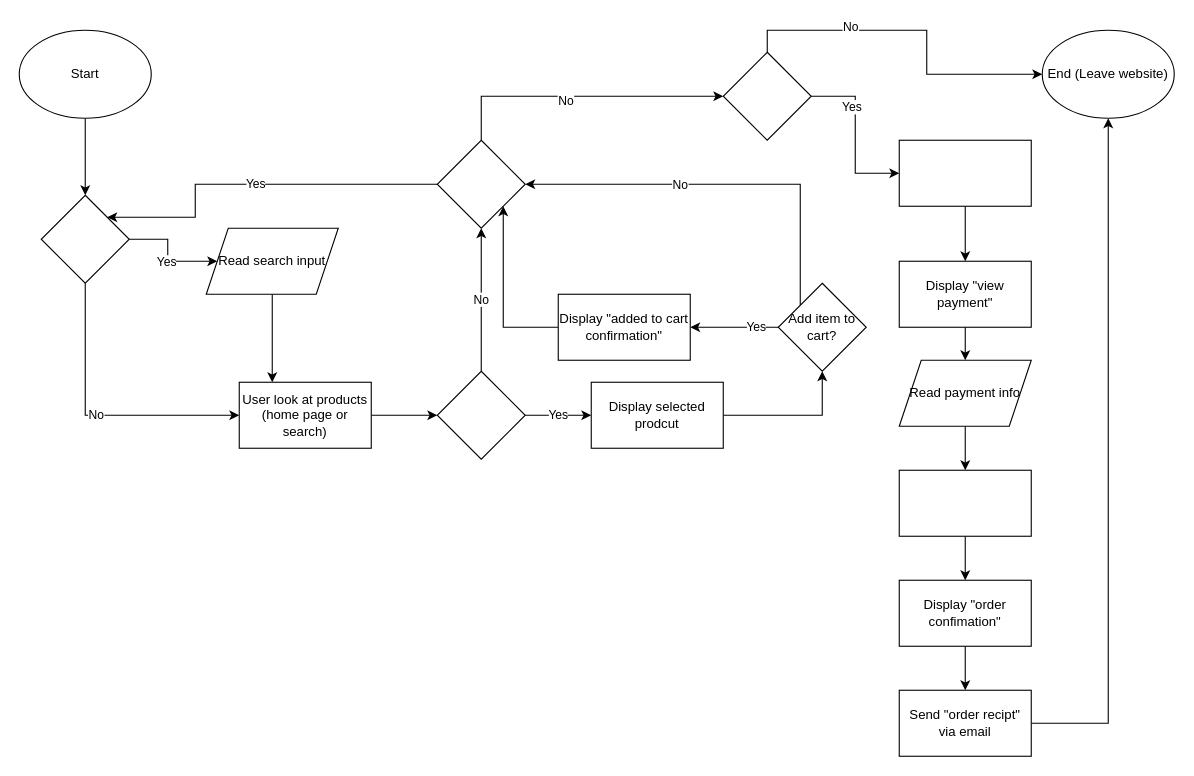
Some shapes in this 1194 by 776 pixel diagram are drawn without their labels. Here are the shapes that lost their labels. From the top down, the box of each, then its label:
(722, 51, 811, 140): Checkout?
(436, 139, 525, 228): Continue shopping?
(898, 139, 1031, 206): Display "view cart"
(40, 194, 129, 283): Search Product?
(436, 370, 525, 459): View specific product?
(898, 469, 1031, 536): Payment transaction
